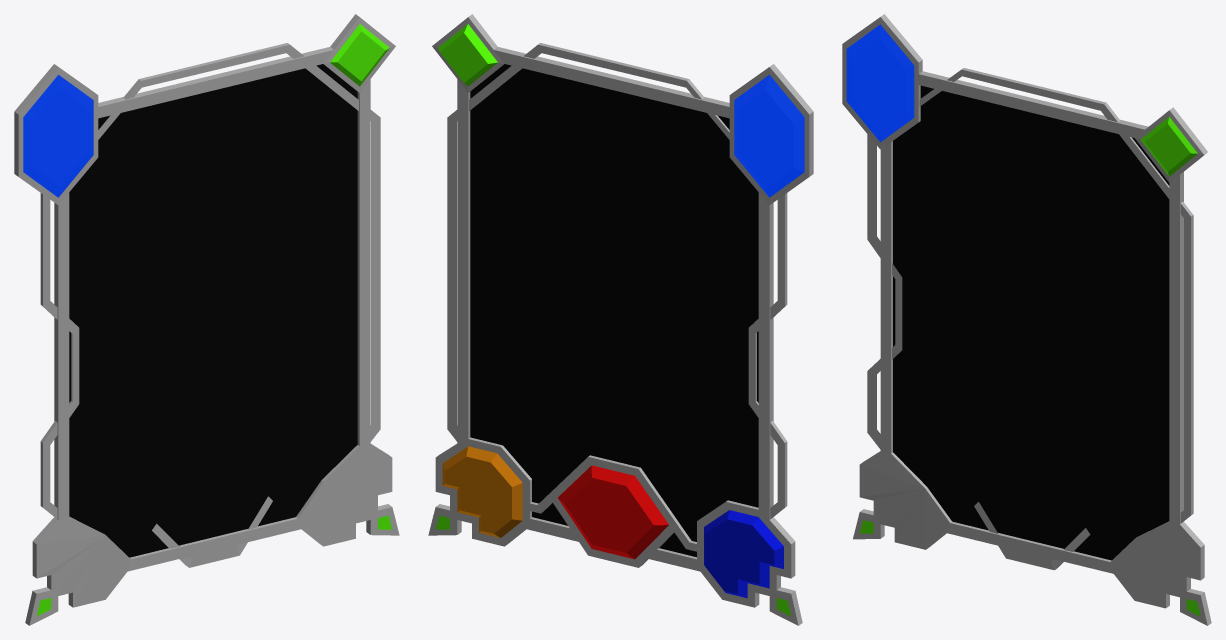
File: tcg-card-prototype.glb
3 views of the same model, side by side, from view 1: azimuth 30°, elevation 25°; view 2: azimuth 150°, elevation 25°; view 3: azimuth 330°, elevation 25° (orthographic). The views are drawn at different scales.
Visible parts, largest first — view 1: card-background, card-frame-core, card-frame-details, card-attribute-cost, card-attribute-faction_studs; view 2: card-background, card-frame-core, card-frame-details, card-attribute-cost, card-attribute-health, card-attribute-attack, card-attribute-defense, card-attribute-faction_studs; view 3: card-background, card-frame-core, card-frame-details, card-attribute-cost, card-attribute-faction_studs.
Boxes of the visible parts, x1,y1,x2,y2 form: card-background: (69,64,357,557); card-frame-core: (25,47,399,625); card-frame-details: (40,43,380,518); card-attribute-cost: (14,64,98,205); card-attribute-faction_studs: (323,14,395,92); card-background: (470,64,758,557); card-frame-core: (428,47,802,625); card-frame-details: (447,43,787,518); card-attribute-cost: (729,64,813,205); card-attribute-health: (558,465,668,559); card-attribute-attack: (442,446,522,537); card-attribute-defense: (704,510,783,598); card-attribute-faction_studs: (432,14,504,92); card-background: (893,85,1169,560); card-frame-core: (853,71,1211,625); card-frame-details: (867,68,1193,523); card-attribute-cost: (842,14,922,149); card-attribute-faction_studs: (1135,107,1207,182).
Size of what is drawn, in the model's own units: 2.62 by 3.63 by 0.1209.
2 materials, 1 textured.
